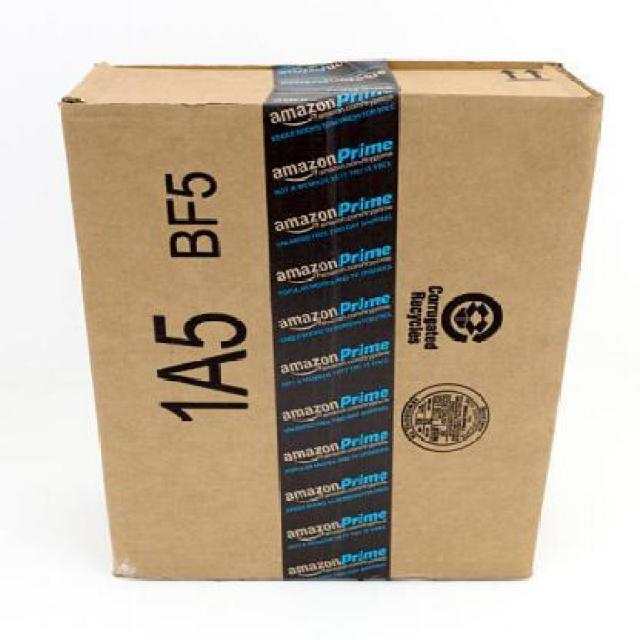box: (55, 59, 608, 581)
